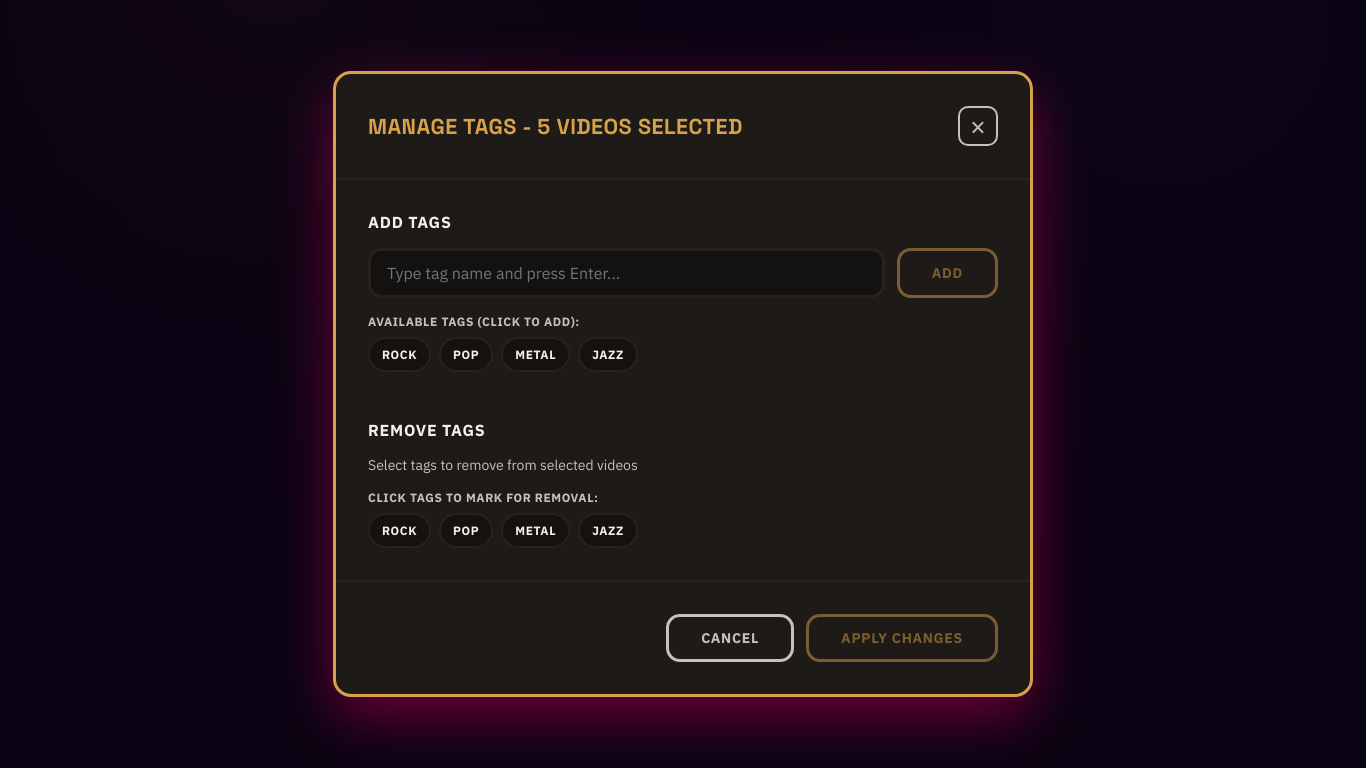
Test: BulkTagModal › adding tags › removes tag from add list when clicking chip
The image size is (1366, 768).
Type "RemoveMe" into the field with placeholder "Type tag name and press Enter...".
click(626, 273); type("RemoveMe")  # box [368,248,885,298]
Then press Enter
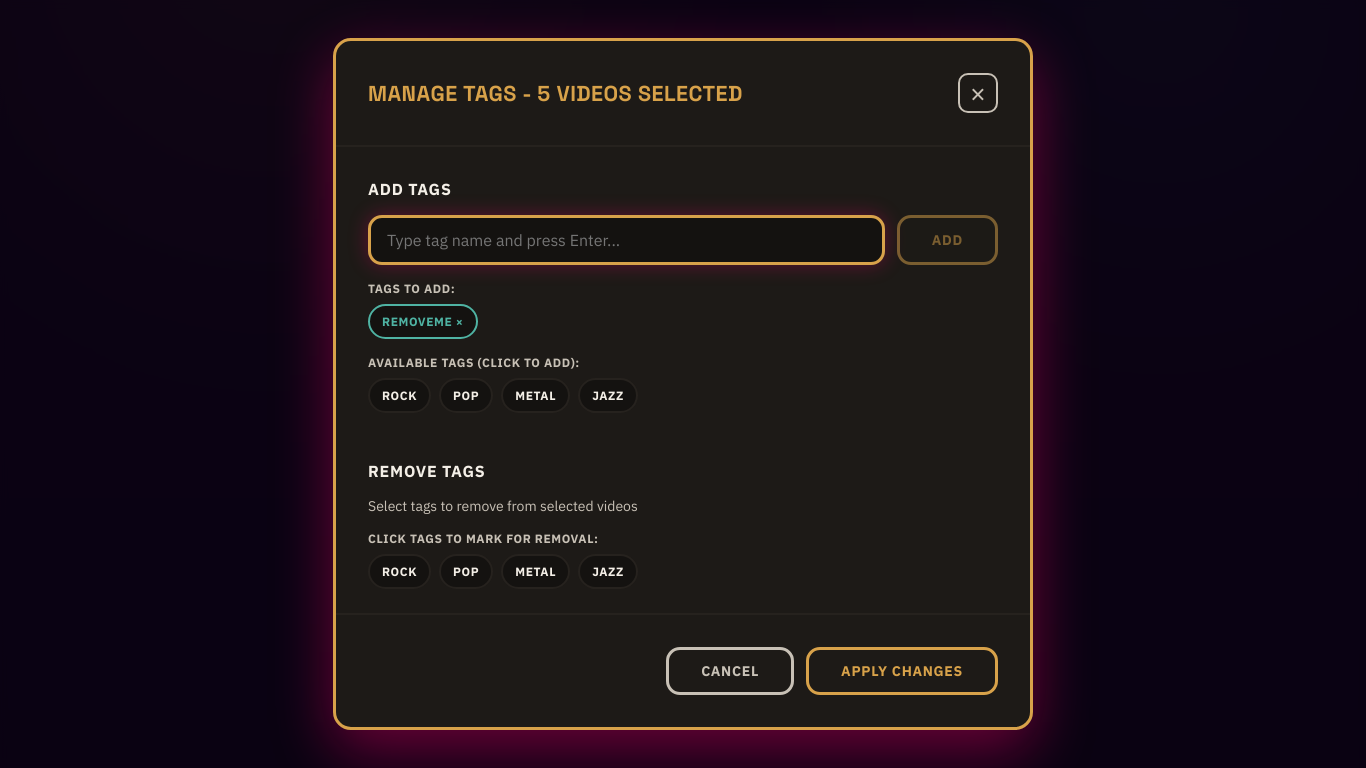
Click the chip to remove
Click the button "RemoveMe ×".
click(423, 322)  # box [368,304,478,339]
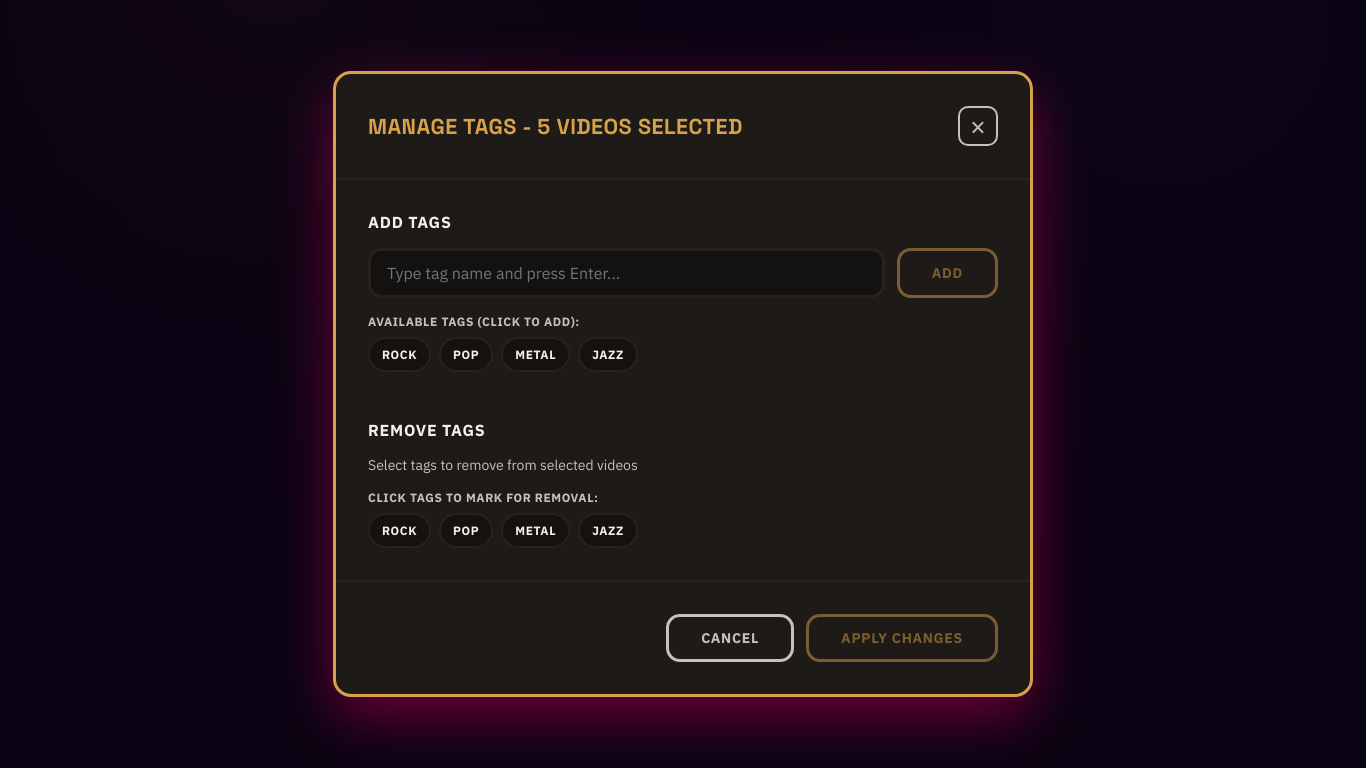
Now the button "RemoveMe ×" is gone
